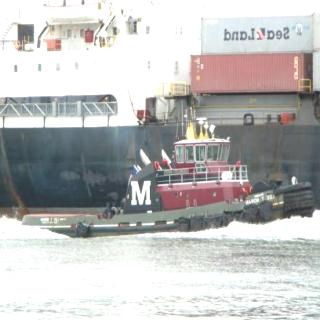Tug Boat: (24, 116, 306, 231)
